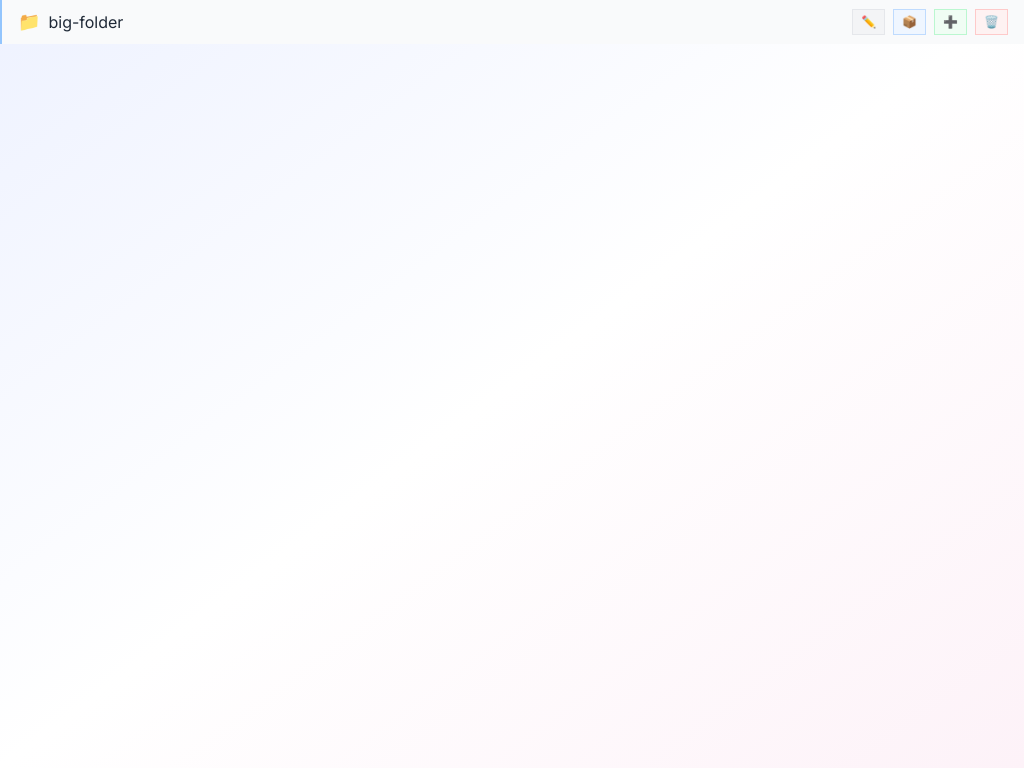
Test: FileTreeNode › shows Load more button inside expanded folder when hasMore is true
Click the text "big-folder" at (86, 22), box x1=48 y1=12 x2=123 y2=32
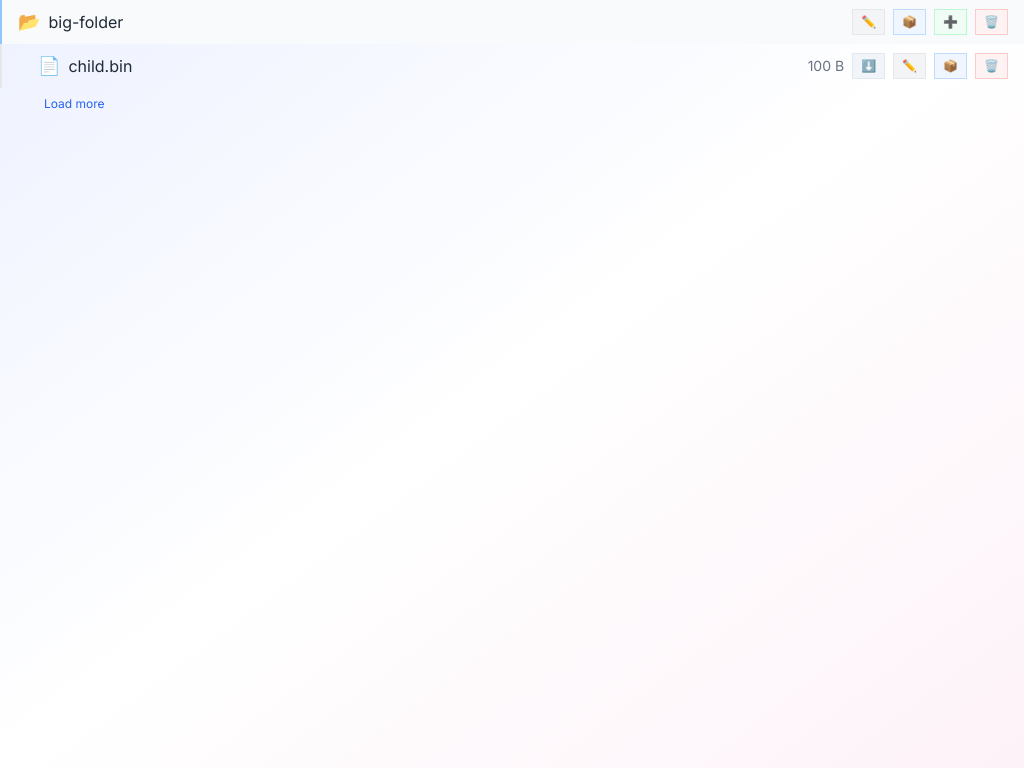
Result: the text "child.bin" is shown at x1=68 y1=56 x2=132 y2=76
Result: the button "Load more" is shown at x1=32 y1=92 x2=117 y2=116
